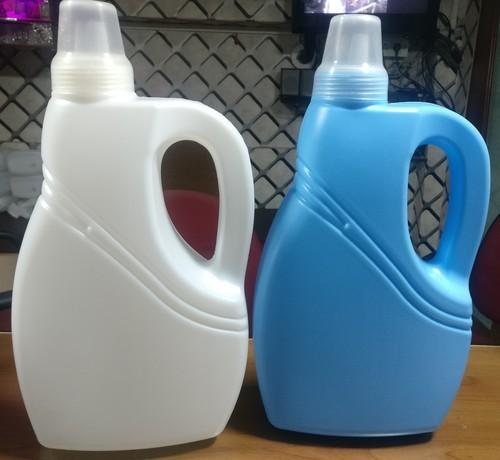HDPE: (242, 0, 500, 460), (0, 0, 256, 460)
